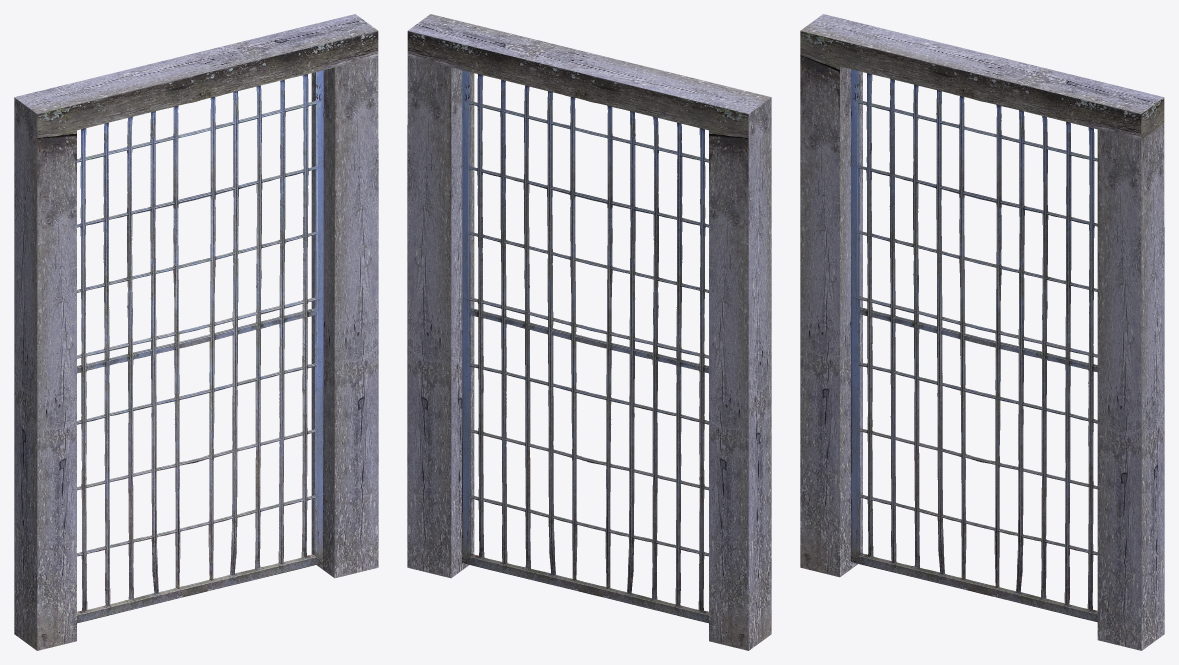
File: Metal_Door_01.fbx
The picture shows the model from 3 angles, left to right: view 1: azimuth 30°, elevation 25°; view 2: azimuth 150°, elevation 25°; view 3: azimuth 330°, elevation 25°; orthographic projection.
Visible parts, largest first — view 1: Frame, Door.001; view 2: Frame, Door.001; view 3: Frame, Door.001.
Part boxes in pixels (<box>): Frame: <box>14,14,378,650</box>; Door.001: <box>77,70,323,623</box>; Frame: <box>407,14,771,650</box>; Door.001: <box>462,70,708,623</box>; Frame: <box>800,14,1164,650</box>; Door.001: <box>851,69,1097,622</box>.
Bounding box in the file's own units: 326 × 490 × 38.08.
